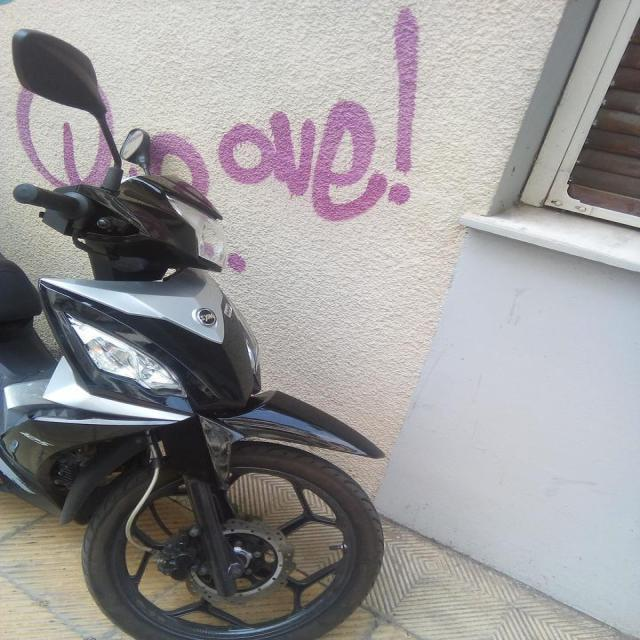nonspitting: (15, 4, 420, 274)
